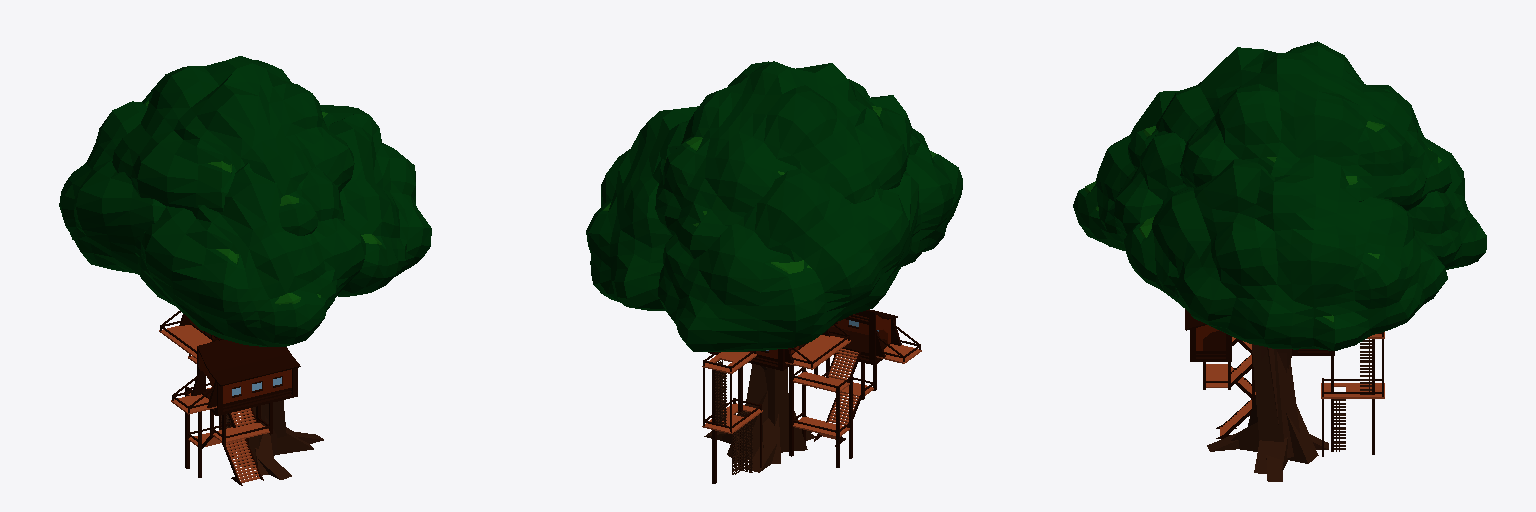
File: Tree_3.obj
3 views of the same model, side by side, from view 1: azimuth 30°, elevation 25°; view 2: azimuth 150°, elevation 25°; view 3: azimuth 270°, elevation 25° (orthographic).
Parts seen in each view (by area): view 1: Part251, Part244, Part228, Part224, Part187, Part196, Part120, Part188, Wedge8; view 2: Part224, Part244, Part228, Part251, Part120, Wedge12, Trunk1, Part71, Wedge9, Part93; view 3: Part228, Part244, Part251, Part224, Part135, Part71, Wedge11, Wedge8.
Part boxes in pixels (left/top/right/bottom): Part251: left=134, top=163, right=365, bottom=346; Part244: left=112, top=56, right=354, bottom=235; Part228: left=320, top=105, right=431, bottom=296; Part224: left=59, top=101, right=165, bottom=274; Part187: left=210, top=353, right=300, bottom=386; Part196: left=197, top=340, right=279, bottom=365; Part120: left=159, top=325, right=211, bottom=358; Part188: left=206, top=347, right=289, bottom=372; Wedge8: left=277, top=427, right=313, bottom=454; Part224: left=658, top=169, right=918, bottom=351; Part244: left=653, top=61, right=910, bottom=258; Part228: left=586, top=106, right=698, bottom=310; Part251: left=866, top=95, right=962, bottom=266; Part120: left=785, top=335, right=850, bottom=369; Wedge12: left=780, top=371, right=807, bottom=452; Trunk1: left=764, top=367, right=787, bottom=426; Part71: left=744, top=364, right=766, bottom=416; Wedge9: left=762, top=414, right=780, bottom=463; Part93: left=829, top=326, right=890, bottom=355; Part228: left=1124, top=155, right=1447, bottom=350; Part244: left=1128, top=41, right=1451, bottom=210; Part251: left=1073, top=90, right=1186, bottom=250; Part224: left=1369, top=85, right=1486, bottom=269; Part135: left=1252, top=344, right=1283, bottom=441; Part71: left=1267, top=347, right=1299, bottom=457; Wedge11: left=1286, top=404, right=1318, bottom=463; Wedge8: left=1254, top=437, right=1287, bottom=473.
Bounding box in the file's own units: 233 × 279 × 269.